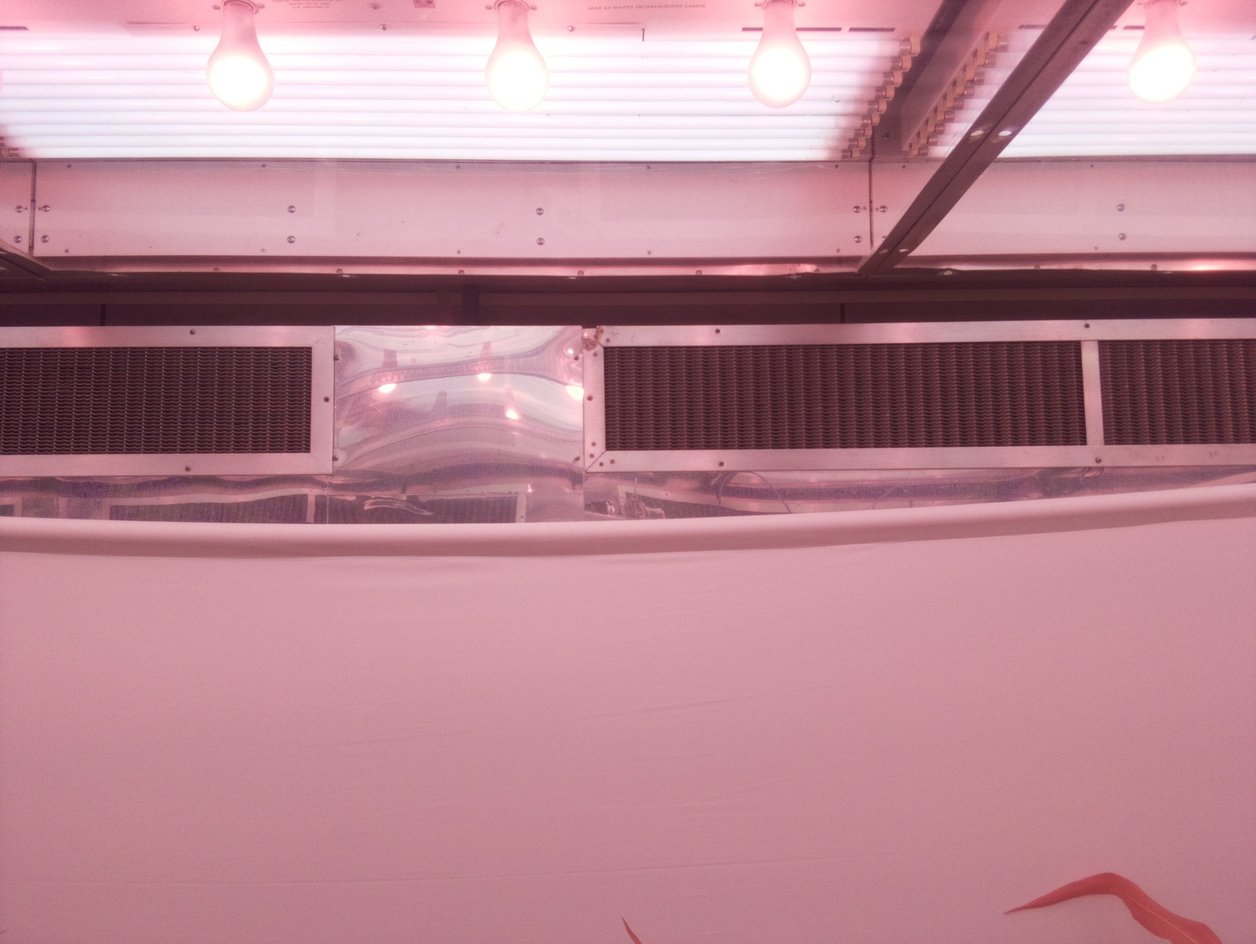maize: (1003, 872, 1233, 944), (620, 916, 643, 944)
